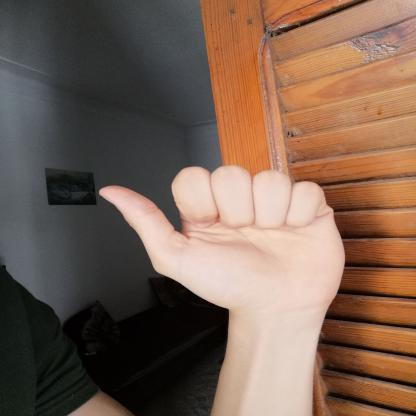DAD: (80, 158, 358, 324)
